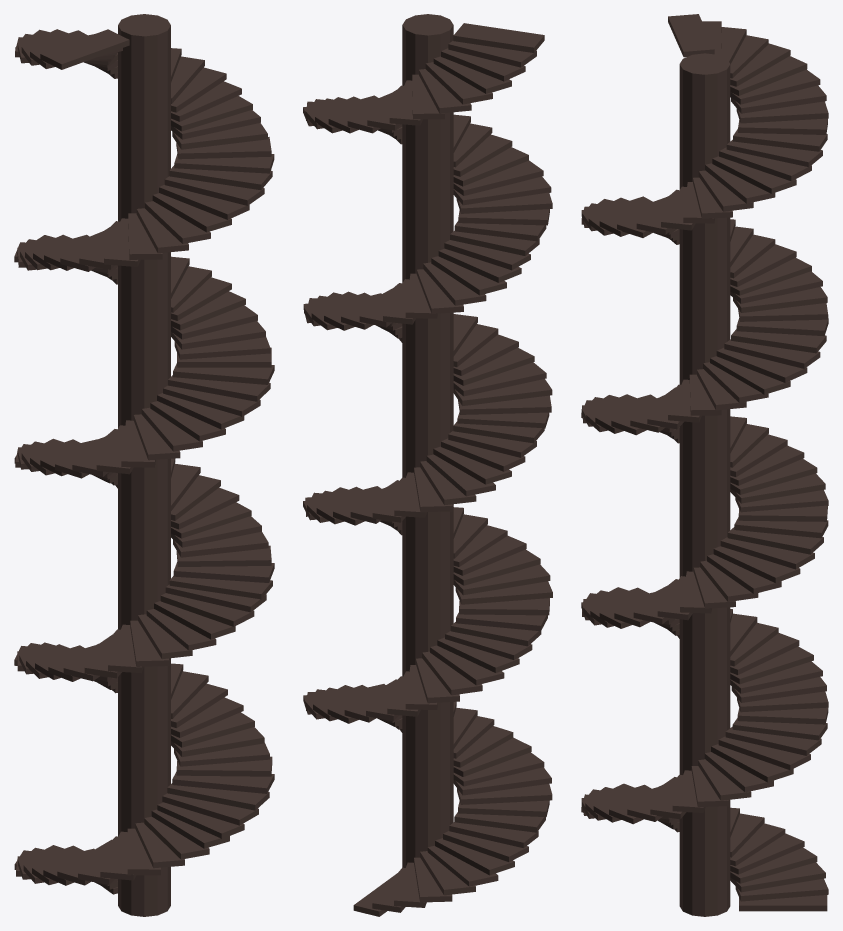
File: Spiral_Staircase.fbx
3 renders of one model, left to right at view 1: azimuth 30°, elevation 25°; view 2: azimuth 150°, elevation 25°; view 3: azimuth 270°, elevation 25°, orthographic. The views are drawn at different scales.
Parts seen in each view (by area): view 1: Cylinder, Cube.090, Cube.123, Cube.029, Cube.035, Cube.125, Cube.031, Cube.034, Cube.081, Cube.082, Cube.077, Cube.036 (+61 smaller); view 2: Cylinder, Cube.090, Cube.129, Cube.130, Cube.052, Cube.051, Cube.061, Cube.075, Cube.013, Cube.014, Cube.076, Cube.128 (+74 smaller); view 3: Cylinder, Cube.090, Cube.108, Cube.107, Cube.049, Cube.050, Cube.095, Cube.040, Cube.020, Cube.019, Cube.047, Cube.094 (+73 smaller).
Part boxes in pixels (left/top/right/bottom): Cylinder: left=118, top=14, right=170, bottom=916; Cube.090: left=40, top=29, right=129, bottom=69; Cube.123: left=173, top=363, right=274, bottom=384; Cube.029: left=172, top=771, right=274, bottom=793; Cube.035: left=173, top=562, right=274, bottom=582; Cube.125: left=168, top=375, right=270, bottom=401; Cube.031: left=167, top=783, right=269, bottom=810; Cube.034: left=169, top=576, right=272, bottom=599; Cube.081: left=164, top=176, right=264, bottom=205; Cube.082: left=169, top=165, right=272, bottom=190; Cube.077: left=174, top=154, right=274, bottom=173; Cube.036: left=176, top=545, right=271, bottom=566; Cylinder: left=402, top=14, right=453, bottom=867; Cube.090: left=453, top=23, right=544, bottom=52; Cube.129: left=453, top=362, right=546, bottom=396; Cube.130: left=453, top=379, right=552, bottom=405; Cube.052: left=453, top=564, right=550, bottom=595; Cube.051: left=455, top=581, right=552, bottom=604; Cube.061: left=459, top=598, right=549, bottom=615; Cube.075: left=453, top=160, right=543, bottom=195; Cube.013: left=457, top=784, right=552, bottom=804; Cube.014: left=453, top=767, right=551, bottom=795; Cube.076: left=453, top=176, right=551, bottom=205; Cube.128: left=458, top=395, right=551, bottom=414; Cylinder: left=679, top=53, right=730, bottom=916; Cube.090: left=668, top=14, right=714, bottom=57; Cube.108: left=731, top=329, right=826, bottom=353; Cube.107: left=724, top=339, right=820, bottom=368; Cube.049: left=727, top=527, right=823, bottom=554; Cube.050: left=720, top=537, right=814, bottom=569; Cube.095: left=736, top=101, right=828, bottom=123; Cube.040: left=713, top=546, right=800, bottom=583; Cube.020: left=718, top=736, right=810, bottom=770; Cube.019: left=725, top=726, right=821, bottom=755; Cube.047: left=734, top=517, right=828, bottom=538; Cube.094: left=733, top=129, right=827, bottom=151.
Bounding box in the file's own units: 327 × 1280 × 341.
